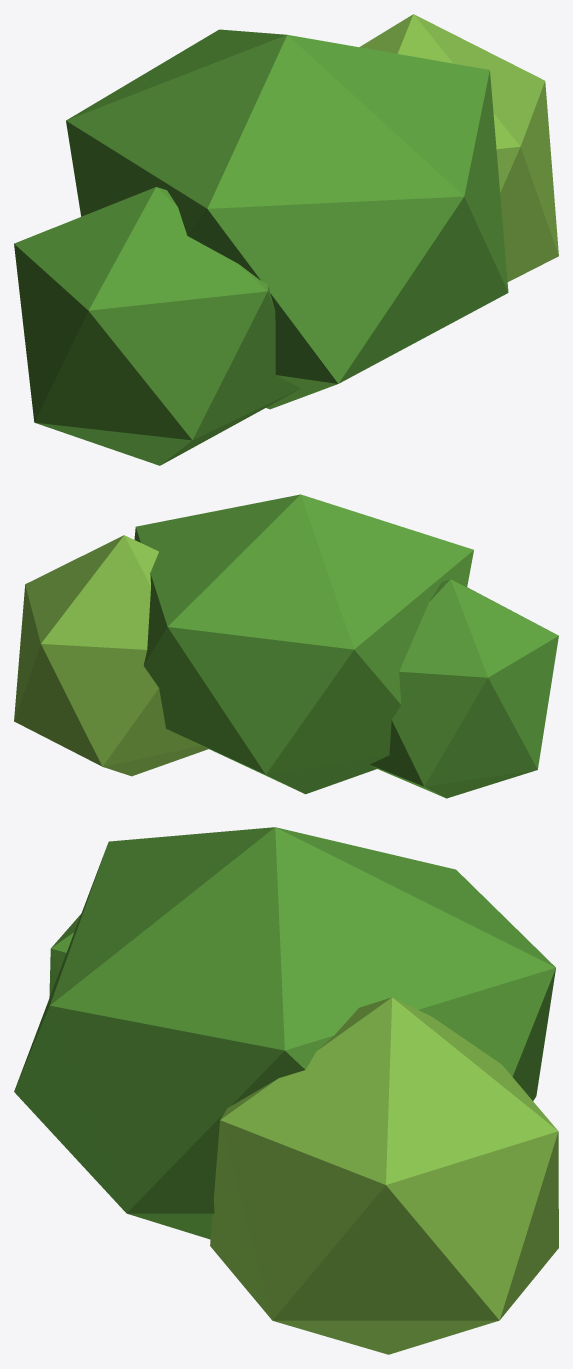
Rendered from nature2_bush_round.glb.
The picture shows the model from 3 angles, top to bottom: view 1: azimuth 30°, elevation 25°; view 2: azimuth 150°, elevation 25°; view 3: azimuth 270°, elevation 25°; orthographic projection. The views are drawn at different scales.
Parts seen in each view (by area): view 1: bush_round; view 2: bush_round; view 3: bush_round.
Boxes of the visible parts, x1,y1,x2,y2 form: bush_round: [14, 14, 558, 465]; bush_round: [14, 494, 558, 798]; bush_round: [14, 827, 558, 1354].
Bounding box in the file's own units: 1.59 × 0.9799 × 1.09.
